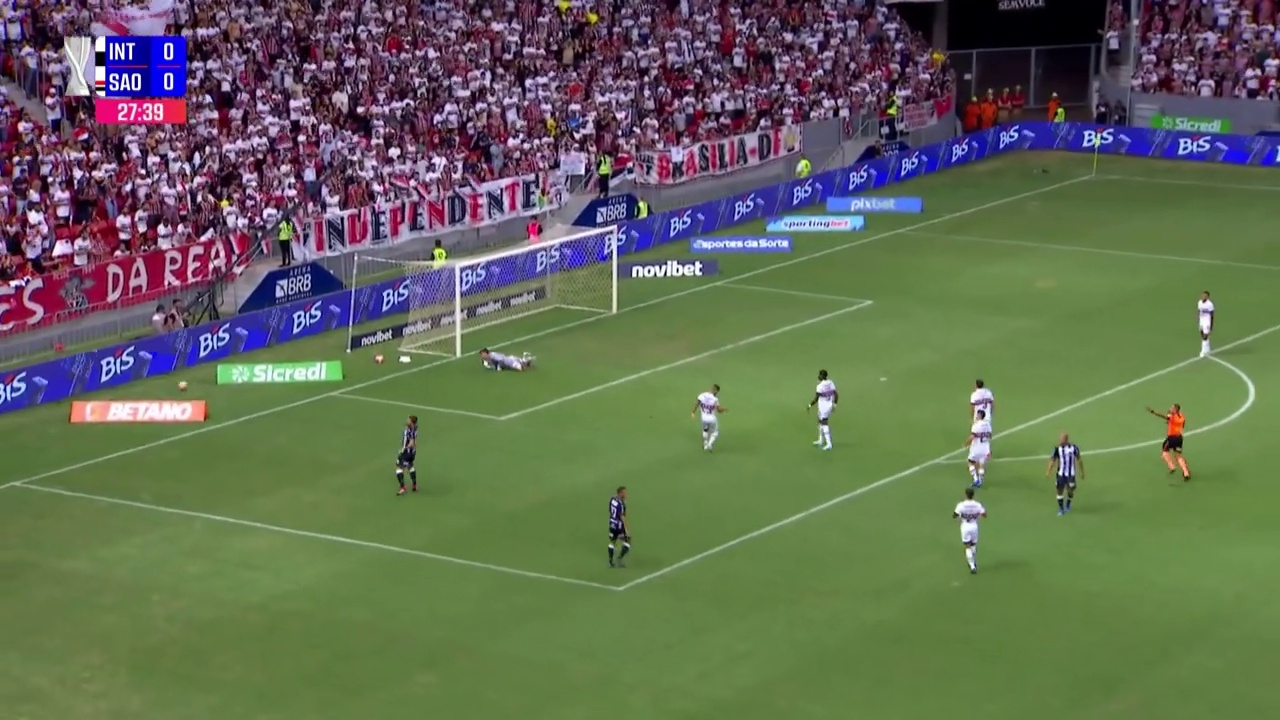ball: (214, 436, 234, 457)
